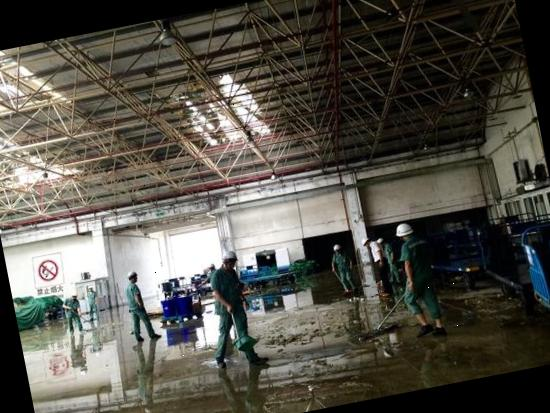helmet: (218, 246, 240, 266), (393, 220, 415, 236), (126, 269, 140, 279), (331, 242, 341, 250), (360, 235, 368, 245), (376, 235, 384, 244)
wear: (212, 264, 246, 311), (399, 236, 432, 280), (124, 281, 144, 308)
